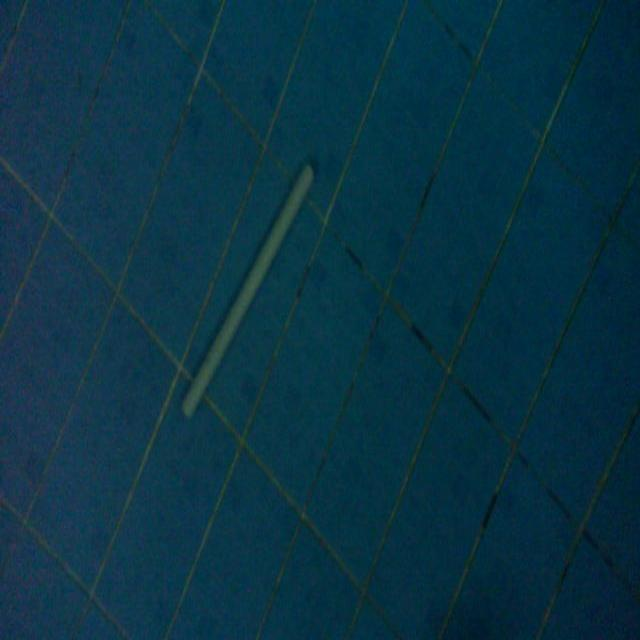Cube: (180, 153, 316, 421)
